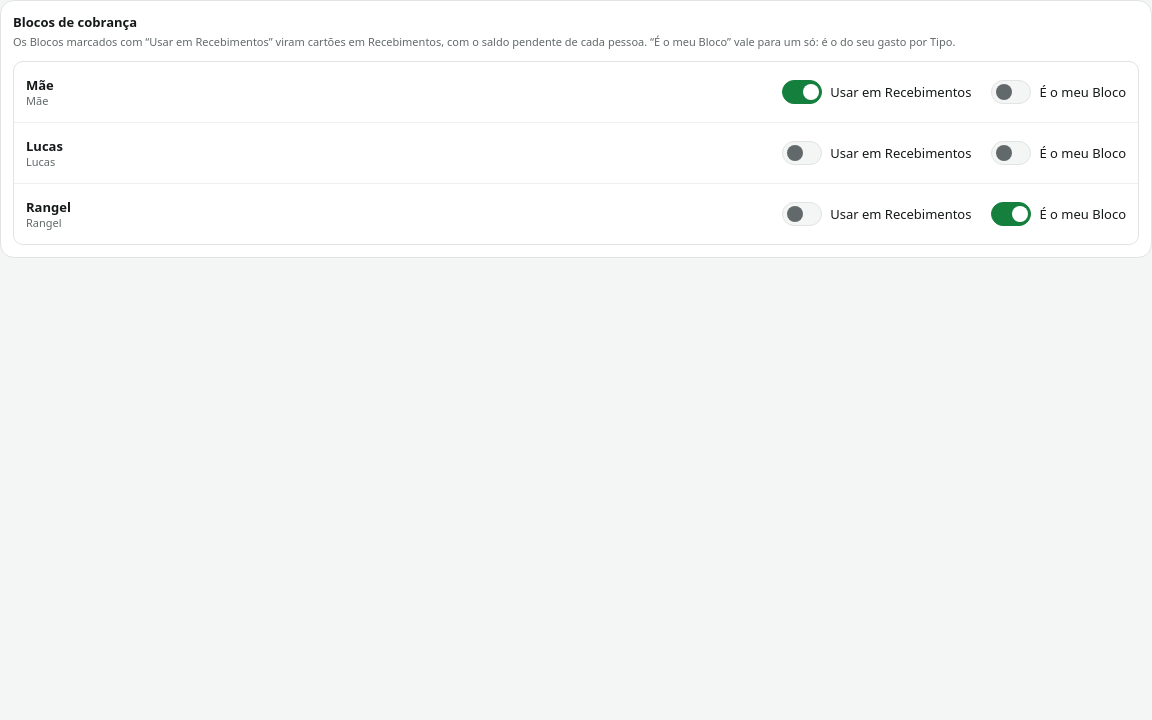
Test: Configurações → Blocos de cobrança (História 6.5, UX-DR25) › falha ao gravar (sem internet ou o banco recusa): avisa com o texto do mapa e a chave segue como estava
Click the switch named "Usar em Recebimentos: Lucas": (802,154) [782,142,822,166]
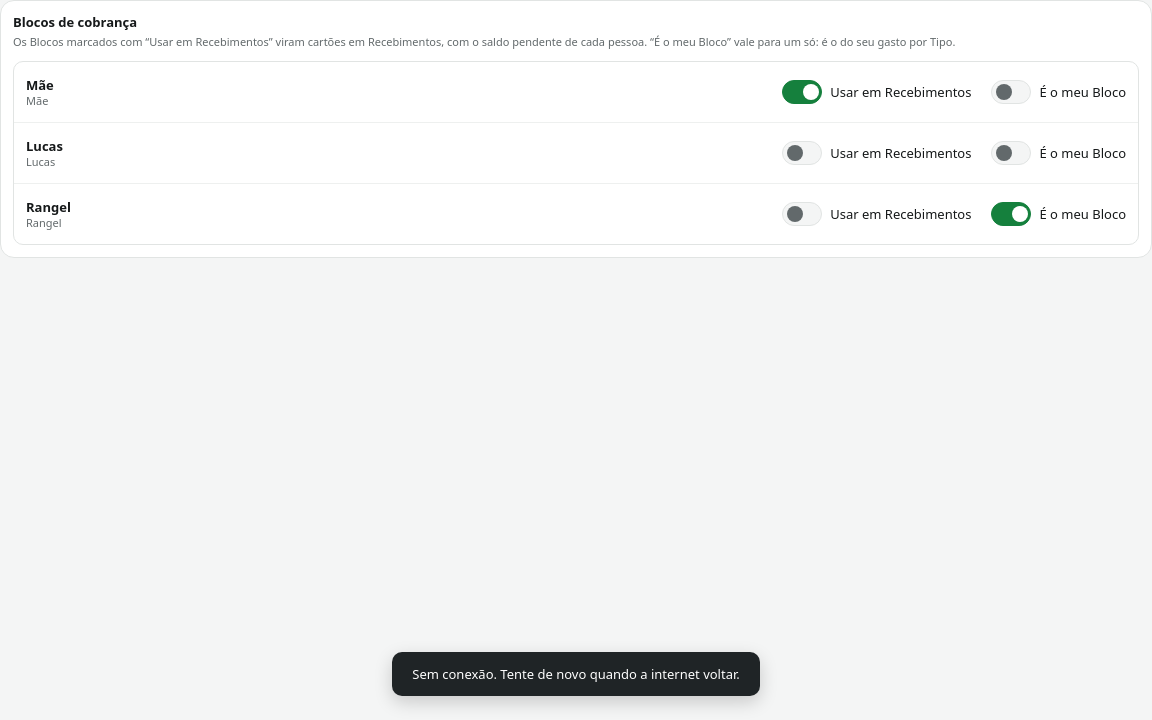
Check: the text "Sem conexão. Tente de novo quando a internet voltar." is shown, box [412,665,740,683]
